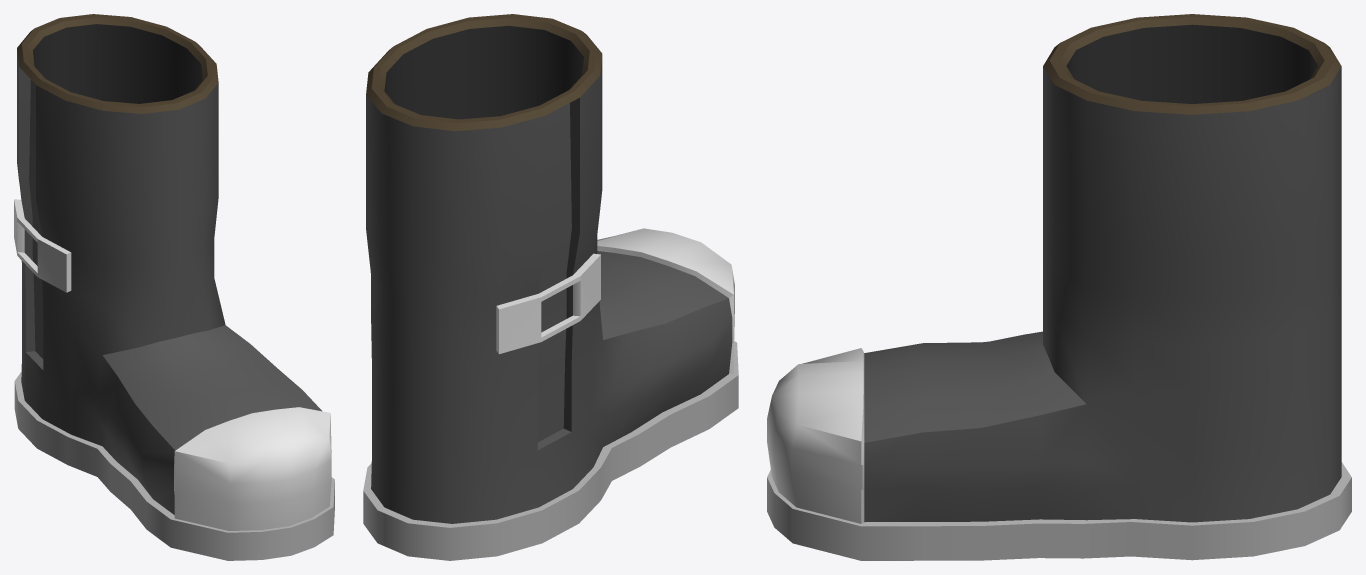
Rendered from steel_toed_boots.fbx.
3 renders of one model, left to right at view 1: azimuth 30°, elevation 25°; view 2: azimuth 150°, elevation 25°; view 3: azimuth 270°, elevation 25°, orthographic. The views are drawn at different scales.
Parts seen in each view (by area): view 1: Boot; view 2: Boot; view 3: Boot.
Part boxes in pixels (x1,y1,x2,y2): Boot: [14, 14, 334, 560]; Boot: [363, 14, 738, 560]; Boot: [767, 14, 1351, 560].
Size of the model in its own units: 75.89 by 160 by 188.
1 material, 1 textured.
